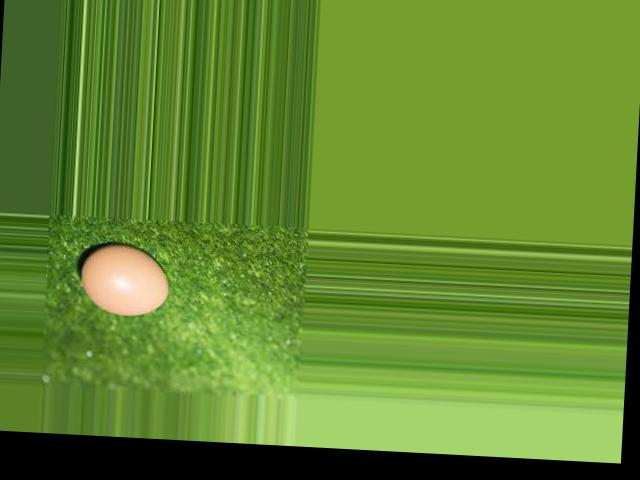egg: (78, 241, 172, 316)
